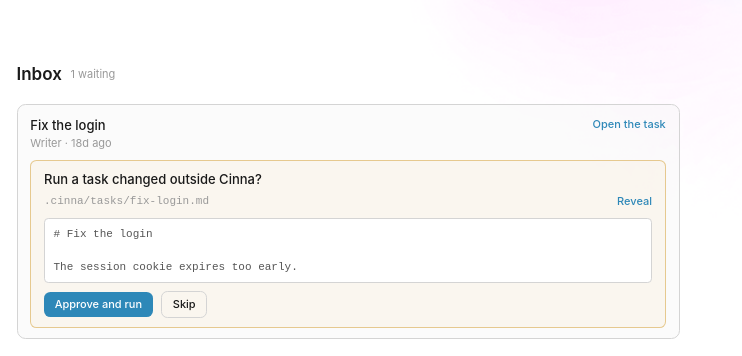
it: the outside-content approval › approves and runs, then keeps the card with what it settled as after the next read drops it
Expected: the element "Run a task changed outside Cinna?" is shown, [16,104,680,339]
Click the button "Approve and run" at (98, 305), box [44,292,153,317]
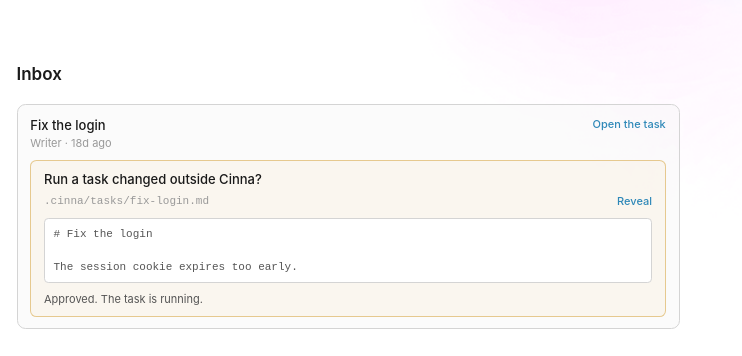
Result: the message reads "Approved. The task is running." at [44,292,203,306]
Result: the button "Approve and run" is gone
